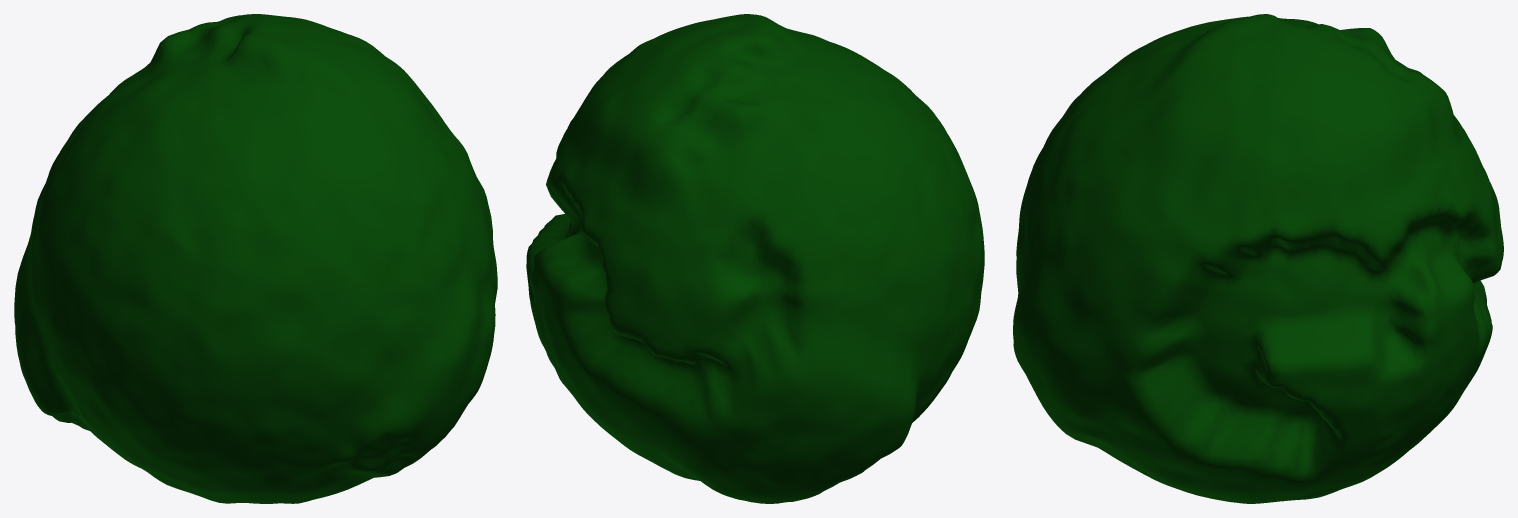
Rendered from planet.obj.
3 renders of one model, left to right at view 1: azimuth 30°, elevation 25°; view 2: azimuth 150°, elevation 25°; view 3: azimuth 270°, elevation 25°, orthographic. The views are drawn at different scales.
Visible parts, largest first — view 1: Icosphere; view 2: Icosphere; view 3: Icosphere.
Part boxes in pixels (x1,y1,x2,y2): Icosphere: (14,14,497,503); Icosphere: (526,14,984,503); Icosphere: (1013,14,1503,503).
Bounding box in the file's own units: 1.99 × 2.1 × 2.01.
